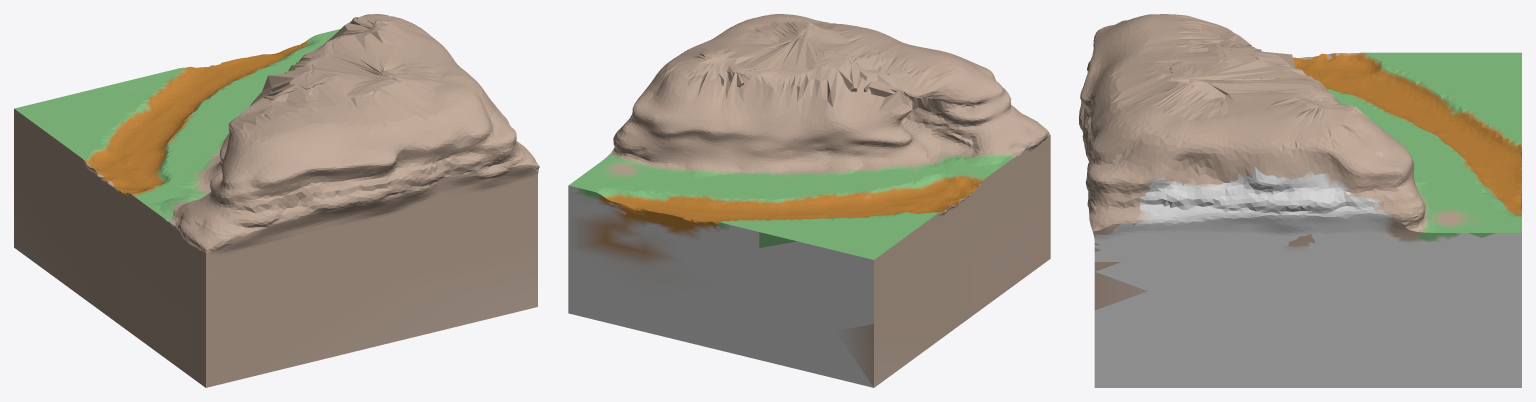
Rendered from chunck2.gltf.
3 renders of one model, left to right at view 1: azimuth 30°, elevation 25°; view 2: azimuth 150°, elevation 25°; view 3: azimuth 270°, elevation 25°, orthographic. The views are drawn at different scales.
Visible parts, largest first — view 1: Cube.003; view 2: Cube.003; view 3: Cube.003.
Boxes of the visible parts, <box> form: Cube.003: <box>14,14,539,387</box>; Cube.003: <box>568,14,1050,387</box>; Cube.003: <box>1079,14,1521,387</box>.
Size of the model in its own units: 102 by 65.13 by 104.
